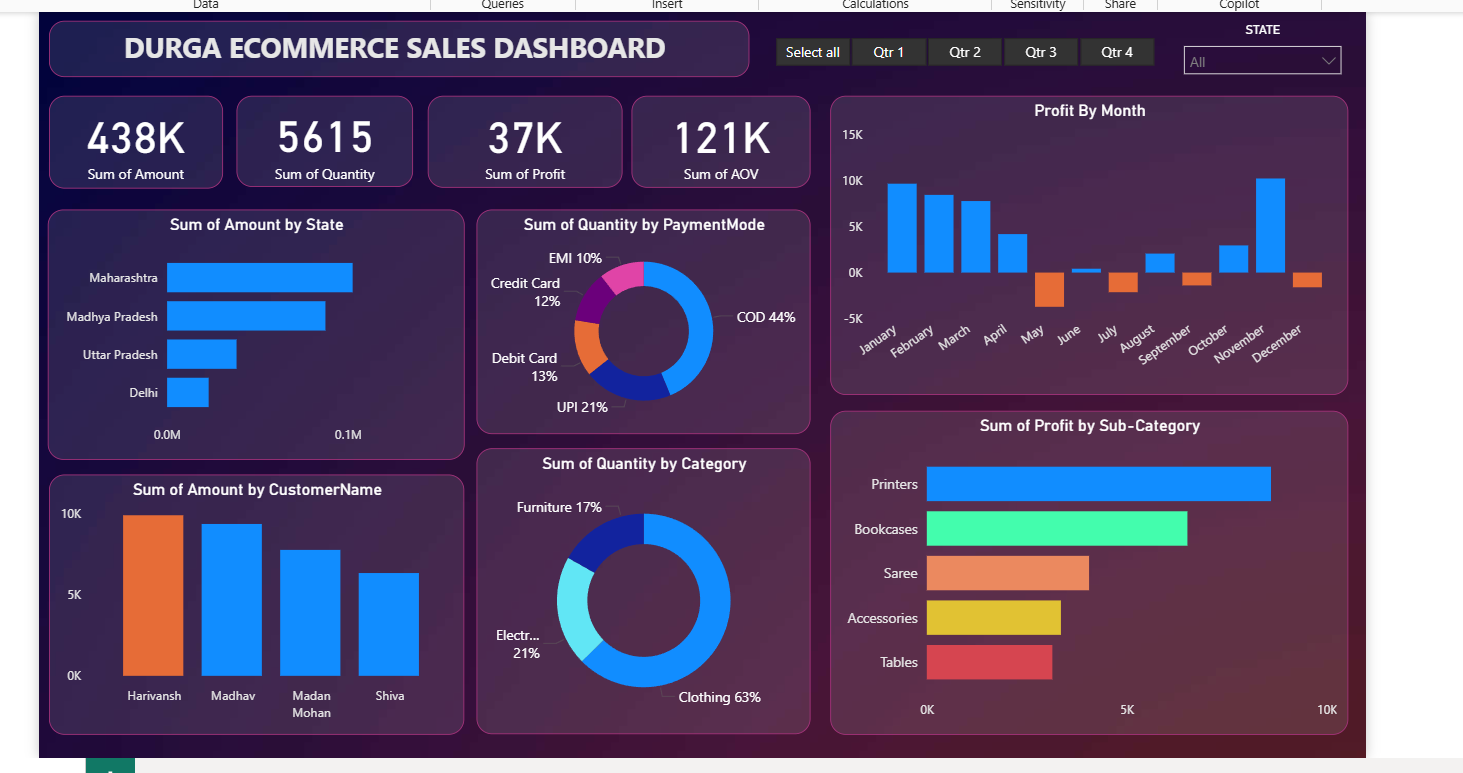

The page's visual inventory and layout, read from the dashboard file:
{"tool":"powerbi","page":{"name":"Page 1","canvas":[1280,720],"ordinal":0},"visuals":[{"type":"textbox","box":[9.7,8.4,675.6,54.3],"z":0},{"type":"columnChart","title":"Profit By Month ","fields":{"Category":["Orders.Order Date.Variation.Date Hierarchy.Month"],"Y":["Sum(Details.Profit)"]},"box":[763.8,81.2,500,288.8],"z":1000},{"type":"barChart","fields":{"Category":["Details.Sub-Category"],"Y":["Sum(Details.Profit)"]},"box":[763.8,385,500,312.5],"z":2000},{"type":"donutChart","fields":{"Category":["Details.Category"],"Y":["Sum(Details.Quantity)"]},"box":[422.6,421.3,322.5,275.8],"z":3000},{"type":"donutChart","fields":{"Y":["Sum(Details.Quantity)"],"Category":["Details.PaymentMode"]},"box":[422.6,190.7,322.5,216.8],"z":4000},{"type":"card","fields":{"Values":["Sum(Details.Amount)"]},"box":[9.7,80.8,167.7,89.3],"z":5000},{"type":"card","fields":{"Values":["Sum(Details.Quantity)"]},"box":[190.7,81,170.2,87.8],"z":6000},{"type":"card","fields":{"Values":["Sum(Details.Profit)"]},"box":[374.6,81,188,89.2],"z":7000},{"type":"card","fields":{"Values":["Sum(Details.ADV)"]},"box":[572.2,81,172.9,89.2],"z":8000},{"type":"barChart","fields":{"Category":["Orders.State"],"Y":["Sum(Details.Amount)"]},"box":[8.2,190.7,402.1,241.5],"z":9000},{"type":"columnChart","fields":{"Category":["Orders.CustomerName"],"Y":["Sum(Details.Amount)"]},"box":[9.6,446,400.7,251.1],"z":10000},{"type":"slicer","fields":{"Values":["Orders.Order Date.Variation.Date Hierarchy.Quarter"]},"box":[685.3,18.1,415,36.2],"z":11000},{"type":"slicer","title":"STATE","fields":{"Values":["Orders.State"]},"box":[1097.9,7.2,166.5,54.3],"z":12000}]}

Visuals, with their boxes in screenshot pixels (x1, y1, x2, y2):
textbox: <region>37, 0, 753, 13</region>
"Profit By Month " columnChart: <region>836, 33, 1365, 339</region>
barChart - Details.Sub-Category x Sum(Details.Profit): <region>836, 355, 1365, 686</region>
donutChart - Details.Category x Sum(Details.Quantity): <region>474, 393, 816, 685</region>
donutChart - Sum(Details.Quantity) x Details.PaymentMode: <region>474, 149, 816, 378</region>
card - Sum(Details.Amount): <region>37, 32, 215, 127</region>
card - Sum(Details.Quantity): <region>229, 32, 409, 125</region>
card - Sum(Details.Profit): <region>423, 32, 623, 127</region>
card - Sum(Details.ADV): <region>633, 32, 816, 127</region>
barChart - Orders.State x Sum(Details.Amount): <region>35, 149, 461, 405</region>
columnChart - Orders.CustomerName x Sum(Details.Amount): <region>37, 419, 461, 685</region>
slicer - Orders.Order Date.Variation.Date Hierarchy.Quarter: <region>753, 0, 1192, 4</region>
"STATE" slicer: <region>1190, 0, 1366, 12</region>
